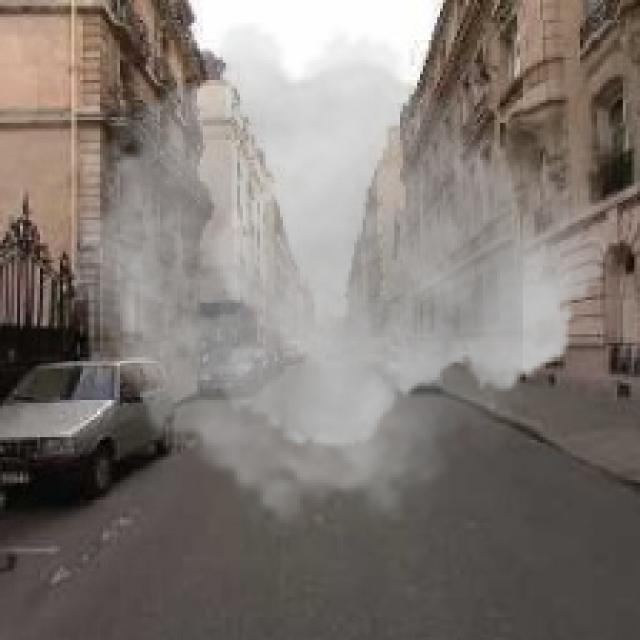smoke: (75, 23, 614, 543)
